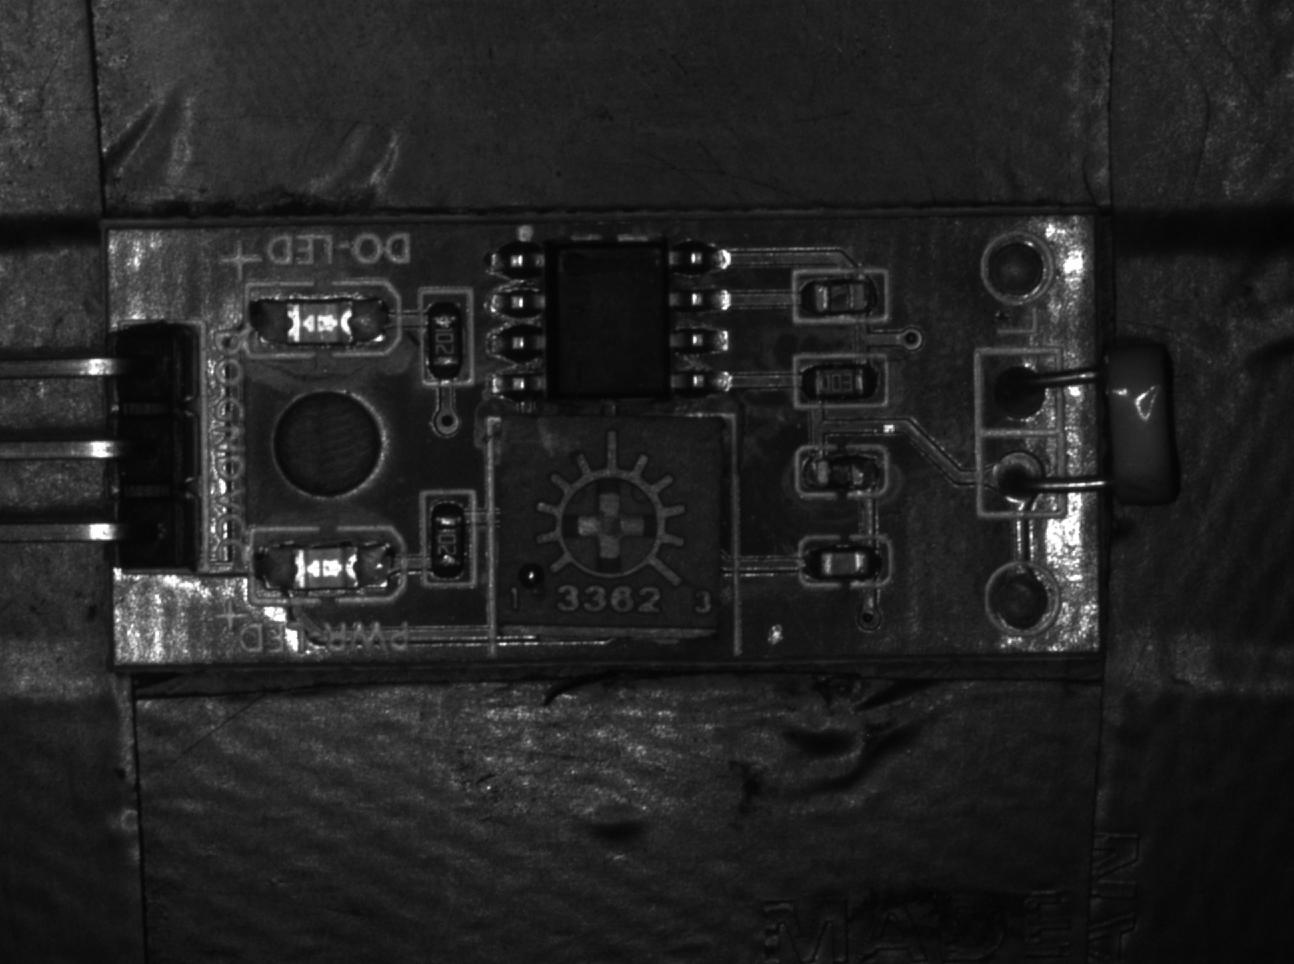miss: (786, 266, 894, 325), (799, 445, 893, 498)
ok: (418, 286, 474, 391), (789, 535, 894, 589), (789, 354, 891, 410), (423, 491, 475, 589)
